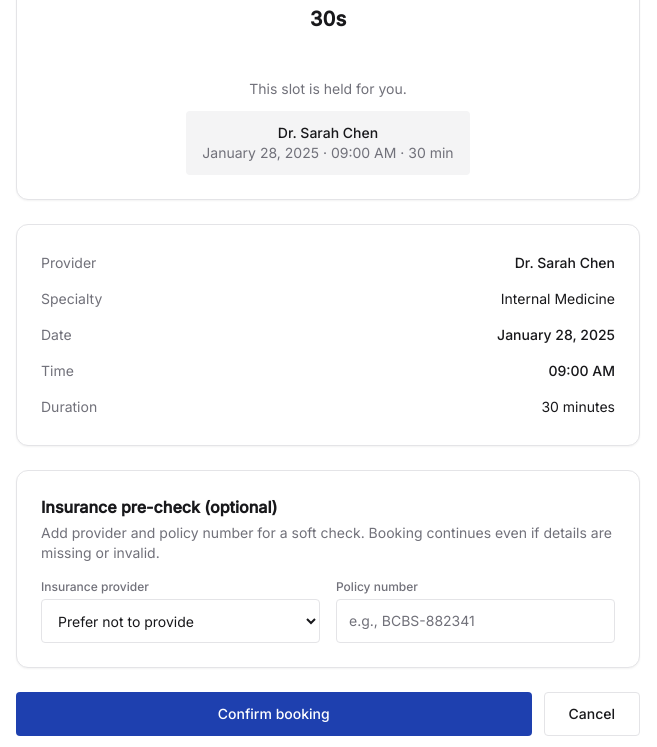
BookingConfirmationPage › submits and displays insurance details without blocking booking flow
(page scrolled)
Step 1. Select "Blue Cross Blue Shield" in the dropdown labelled "Insurance provider" → (180, 621), box [41,599,320,643]
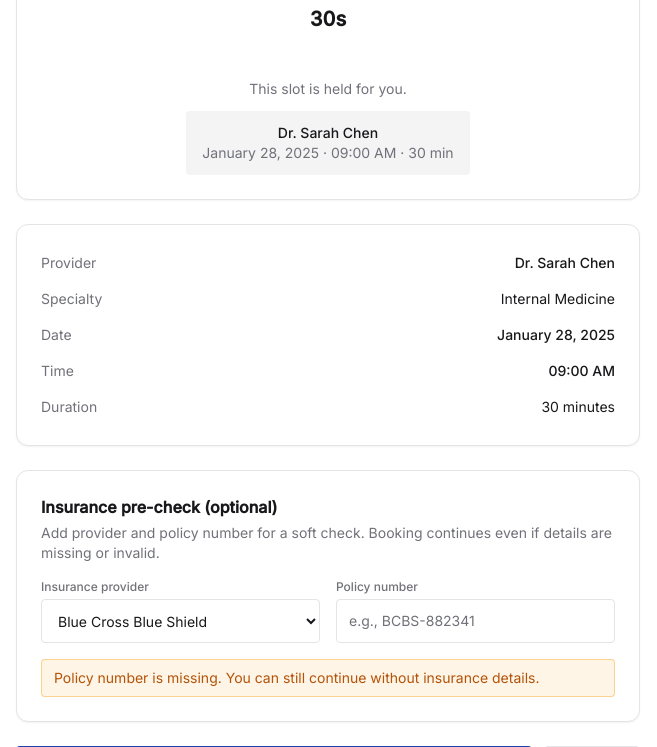
Step 2. Type "BCBS-882341" into the field labelled "Policy number" → (476, 621), box [336,599,615,643]
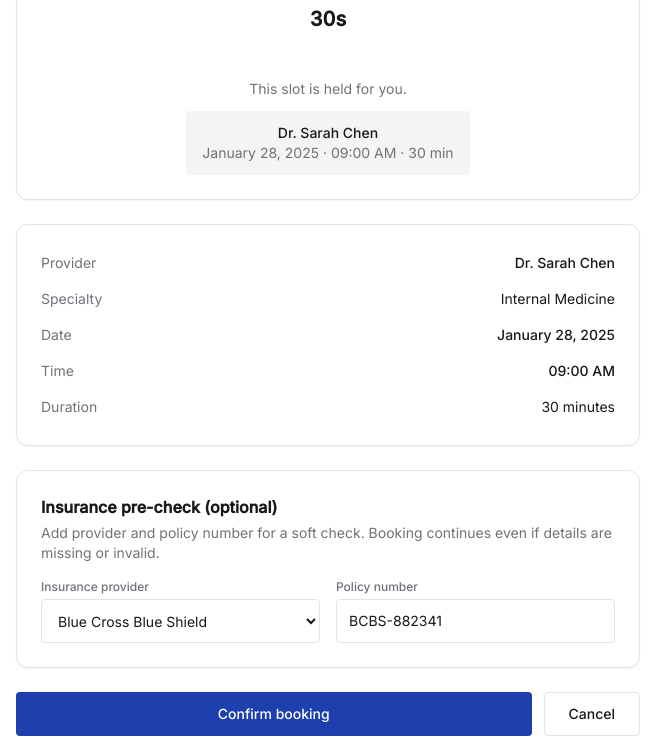
Step 3. Click the button "Confirm booking" → (274, 714), box [16,692,532,736]
(page scrolled)
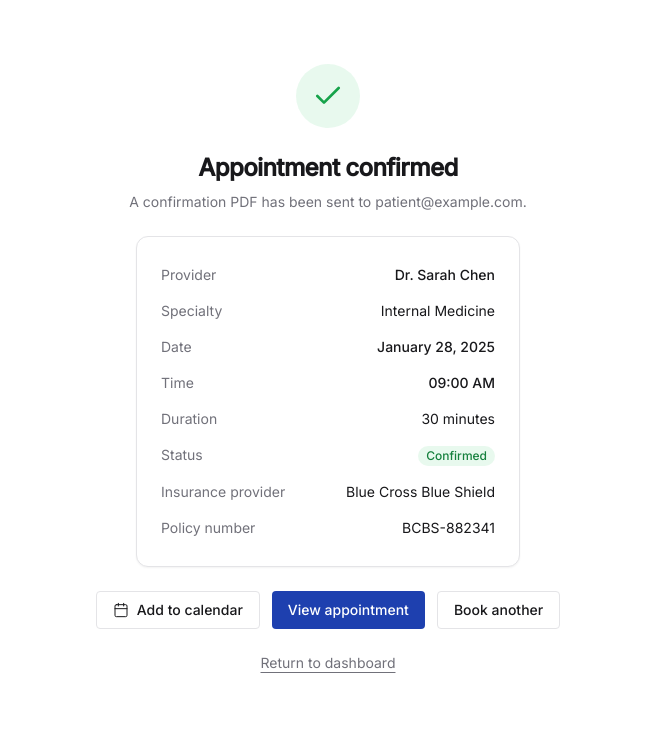
Check: the heading "Appointment confirmed" is shown, box [198,153,458,182]
Check: the text "Blue Cross Blue Shield" is shown, box [346,482,495,502]
Check: the text "BCBS-882341" is shown, box [402,518,495,538]
